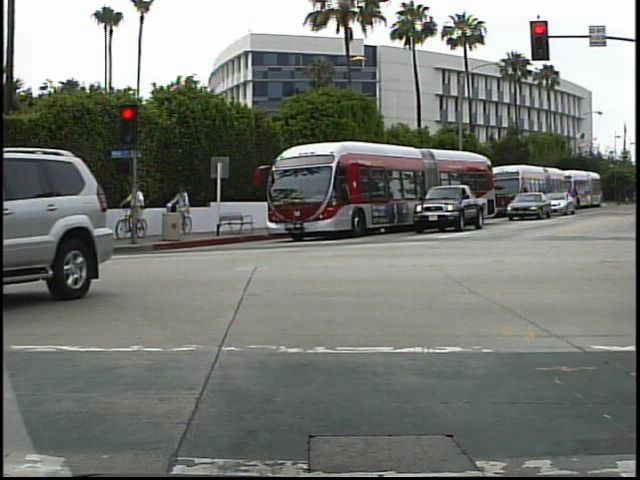person: (171, 183, 198, 237)
